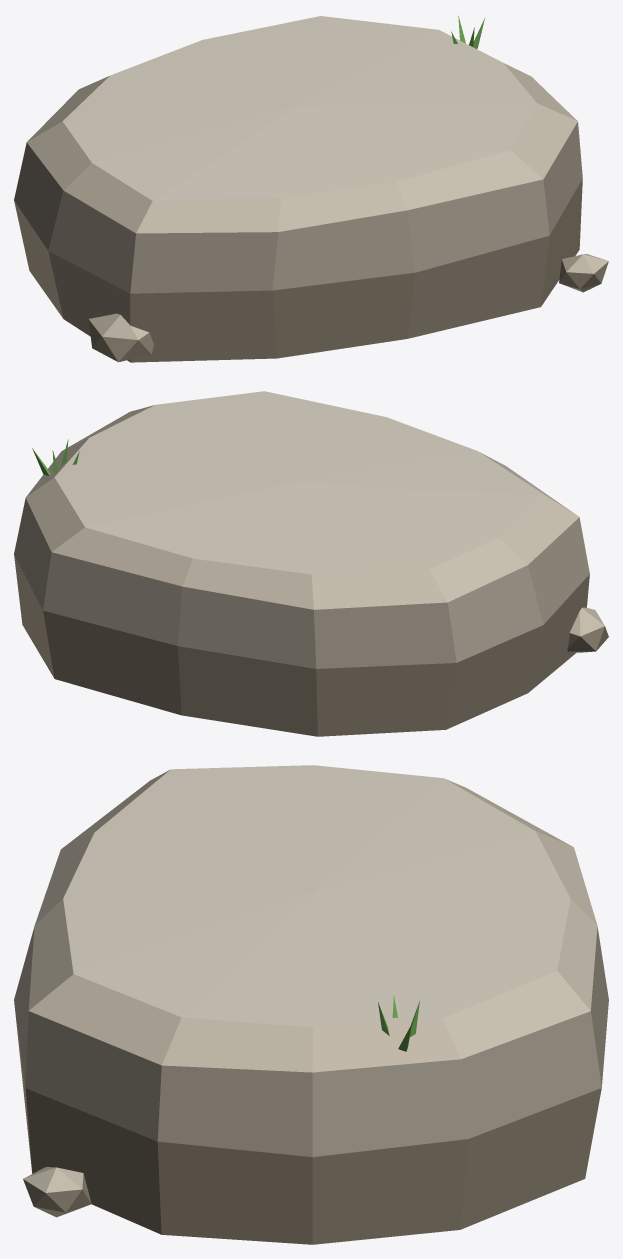
Rendered from kawa-rock.glb.
3 renders of one model, top to bottom at view 1: azimuth 30°, elevation 25°; view 2: azimuth 150°, elevation 25°; view 3: azimuth 270°, elevation 25°, orthographic. The views are drawn at different scales.
Visible parts, largest first — view 1: kawa-rock; view 2: kawa-rock; view 3: kawa-rock.
Part boxes in pixels (left/top/right/bottom): kawa-rock: left=14, top=15, right=608, bottom=362; kawa-rock: left=14, top=391, right=608, bottom=736; kawa-rock: left=14, top=765, right=608, bottom=1244.
Bounding box in the file's own units: 5.13 × 1.68 × 4.
